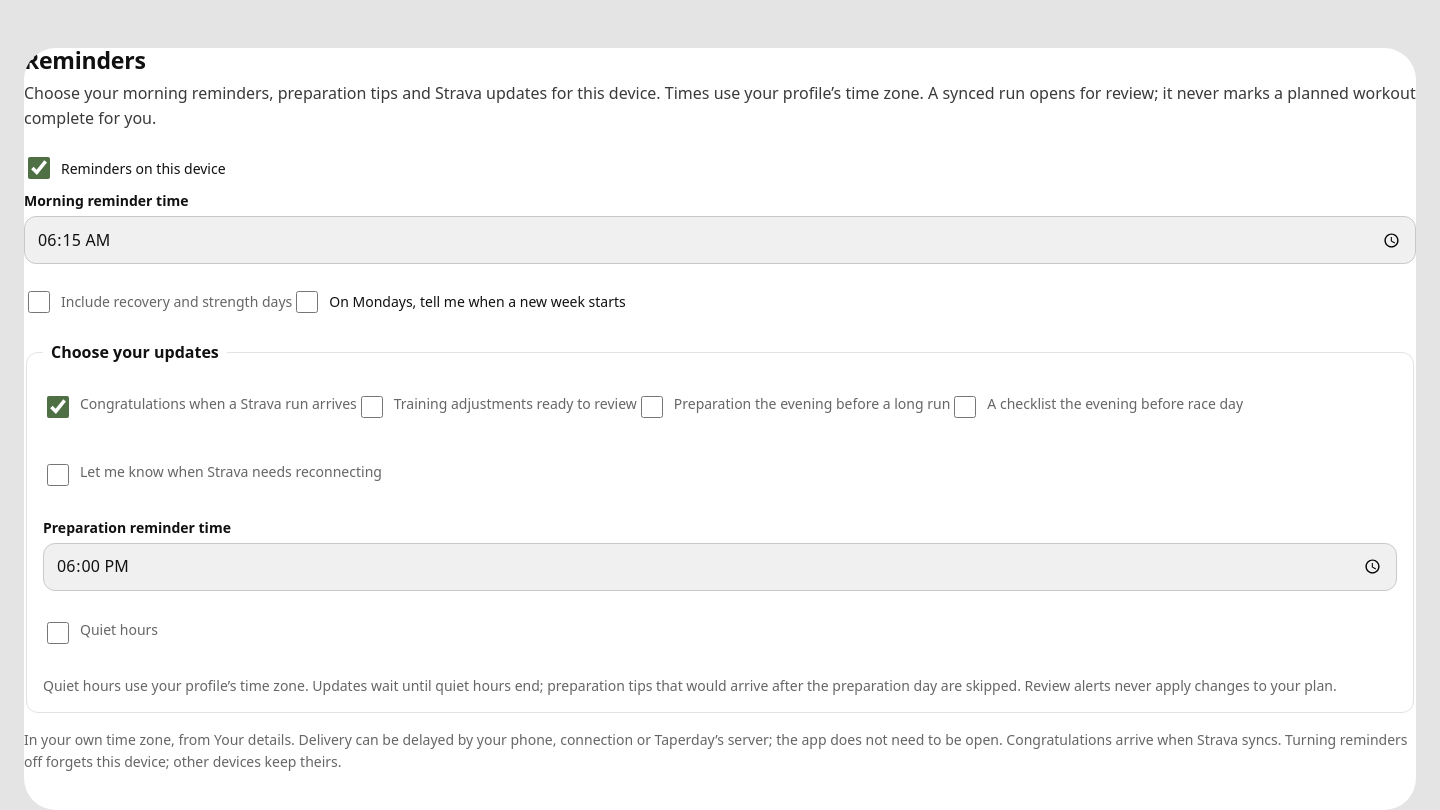
Test: reminders in Account › does not request browser permission after token work when a saved subscription has expired
Check: the switch is checked, box [28, 158, 50, 180]
What coordinates should you click on to do the following:
click the checkbox labelled "Training adjustments ready to review"
I would click on:
 (372, 407)
Its box is [361, 396, 383, 418].
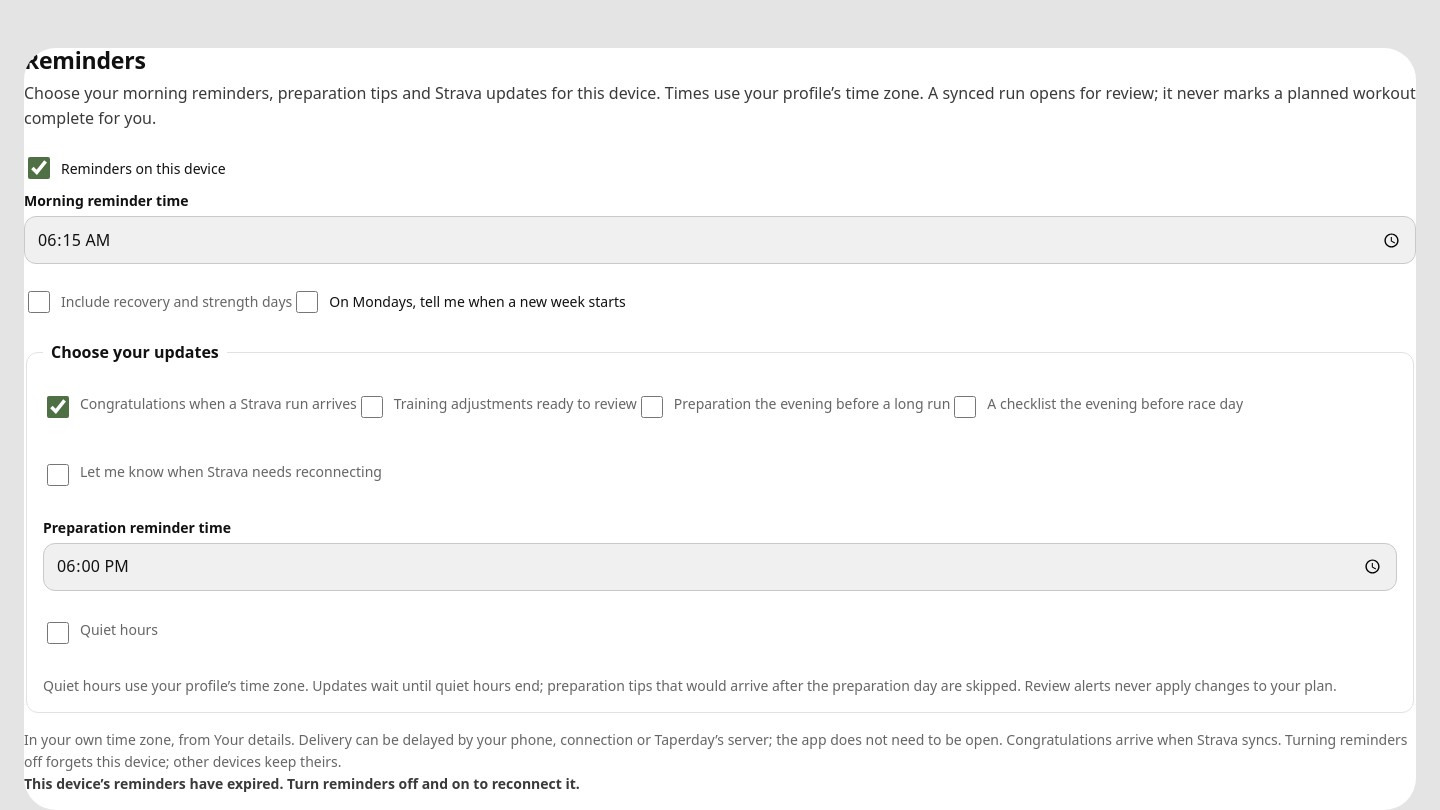
Check: the message shows "reminders have expired", box [24, 774, 580, 793]
